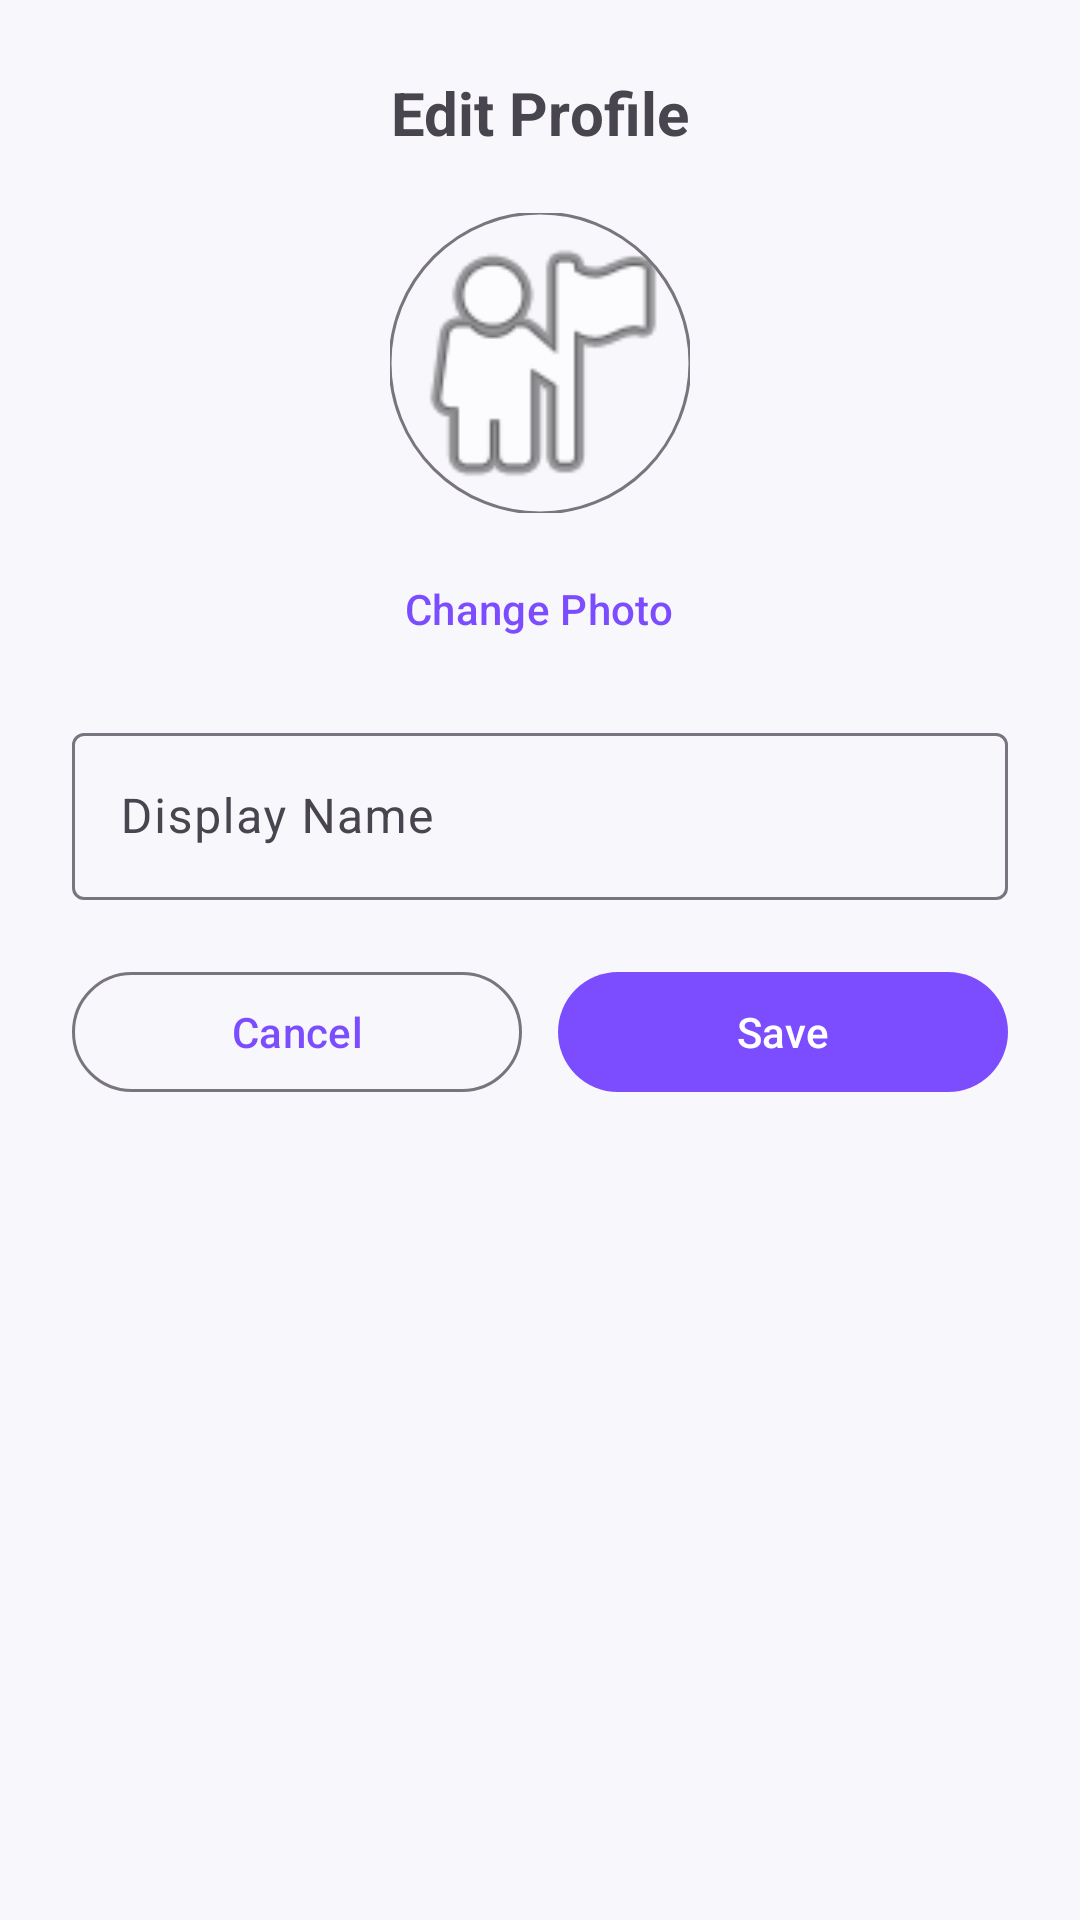

Icon click points for this 1080×1920 phone screenshot, format (x=x, y=y):
myplaces: (x=540, y=363)
